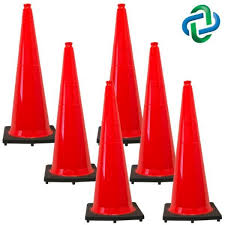cones: (76, 85, 144, 225), (162, 77, 219, 223), (3, 3, 57, 143), (47, 40, 97, 185)
